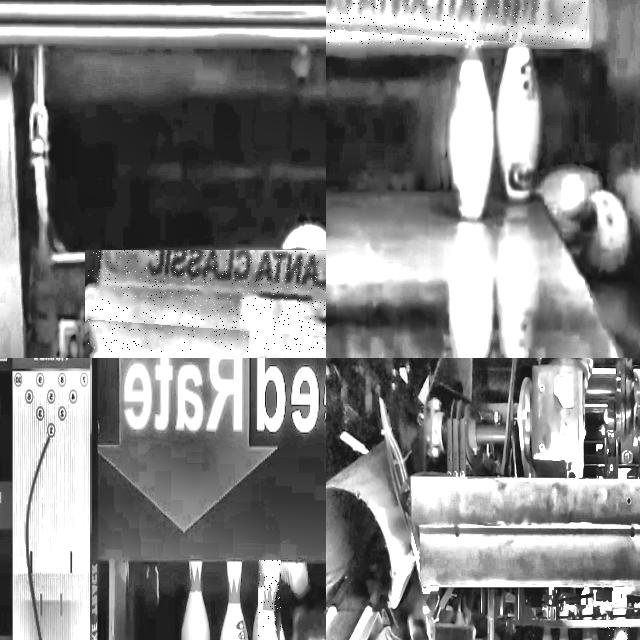bowling-ball: (296, 605, 326, 640)
bowling-pins: (449, 46, 494, 219), (496, 38, 541, 201), (221, 561, 248, 640), (182, 561, 209, 640), (258, 561, 281, 640)
sweep board: (88, 251, 326, 306), (326, 0, 587, 45)
